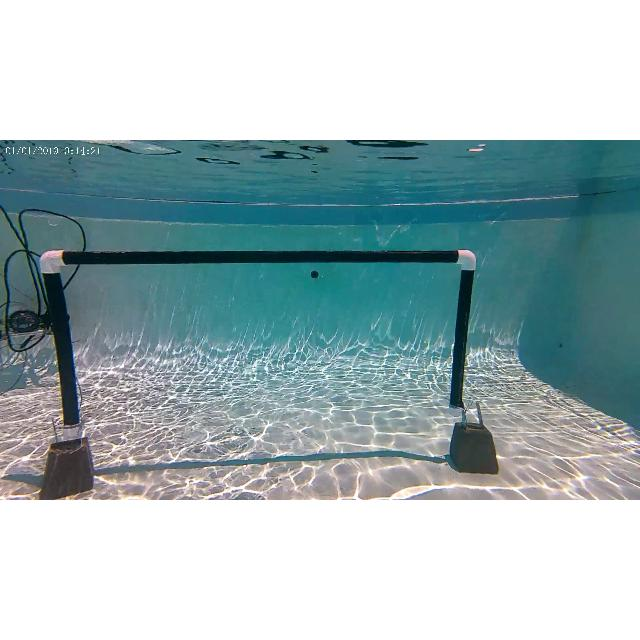prequal gate: (41, 249, 477, 441)
prequal gate leg l: (38, 248, 92, 434)
prequal gate leg r: (448, 247, 479, 423)
